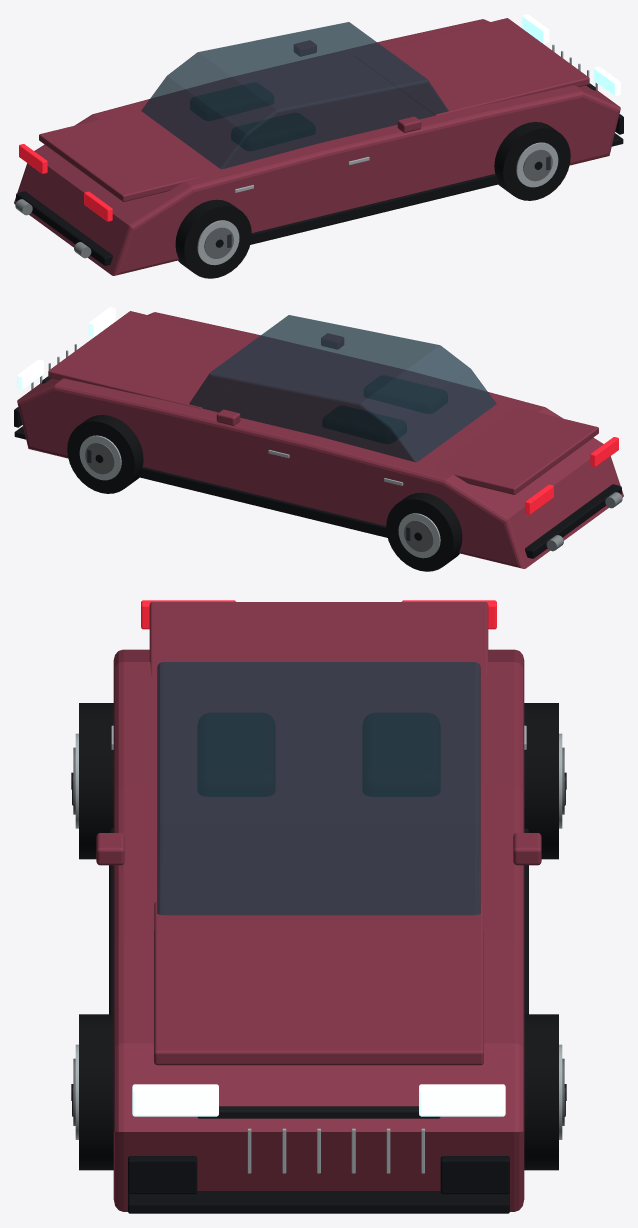
The model's file is rr_droptail.glb.
3 renders of one model, top to bottom at view 1: azimuth 30°, elevation 25°; view 2: azimuth 150°, elevation 25°; view 3: azimuth 270°, elevation 25°, orthographic. The views are drawn at different scales.
Parts seen in each view (by area): view 1: sculpted_body, glasshouse, hood_center, rear_deck, rear_right_wheel_tire, front_right_wheel_tire, side_skirt_1, seat_-1, seat_1, rear_diffuser, front_right_wheel_rim, rear_right_wheel_rim (+6 smaller); view 2: sculpted_body, glasshouse, hood_center, rear_deck, rear_left_wheel_tire, front_left_wheel_tire, side_skirt_-1, seat_1, seat_-1, rear_diffuser, front_left_wheel_rim, rear_left_wheel_rim (+6 smaller); view 3: sculpted_body, glasshouse, hood_center, rear_deck, front_splitter, seat_-1, seat_1, front_left_wheel_tire, front_right_wheel_tire, rear_left_wheel_tire, rear_right_wheel_tire, headlight_left (+6 smaller).
Boxes of the visible parts, x1,y1,x2,y2 form: sculpted_body: (14,19,620,275); glasshouse: (141,22,448,169); hood_center: (355,18,589,115); rear_deck: (39,114,203,201); rear_right_wheel_tire: (175,199,251,278); front_right_wheel_tire: (494,122,570,200); side_skirt_1: (250,174,499,244); seat_-1: (190,83,273,120); seat_1: (231,113,314,150); rear_diffuser: (16,191,112,265); front_right_wheel_rim: (516,142,558,187); rear_right_wheel_rim: (197,220,239,265); sculpted_body: (17,312,623,568); glasshouse: (189,315,496,462); hood_center: (48,311,282,408); rear_deck: (434,407,598,494); rear_left_wheel_tire: (386,492,462,571); front_left_wheel_tire: (67,415,143,493); side_skirt_-1: (138,467,387,537); seat_1: (364,376,447,413); seat_-1: (323,406,406,443); rear_diffuser: (525,484,621,558); front_left_wheel_rim: (79,435,121,480); rear_left_wheel_rim: (398,513,440,558); sculpted_body: (113,649,524,1211); glasshouse: (157,662,480,915); hood_center: (154,902,483,1065); rear_deck: (149,602,488,680); front_splitter: (128,1191,509,1213); seat_-1: (363,713,439,796); seat_1: (198,713,274,796); front_left_wheel_tire: (524,1014,558,1170); front_right_wheel_tire: (79,1014,113,1170); rear_left_wheel_tire: (524,703,558,859); rear_right_wheel_tire: (79,703,113,859); headlight_left: (419,1084,505,1116).
Bounding box in the file's own units: 5.66 × 1.36 × 2.28.
